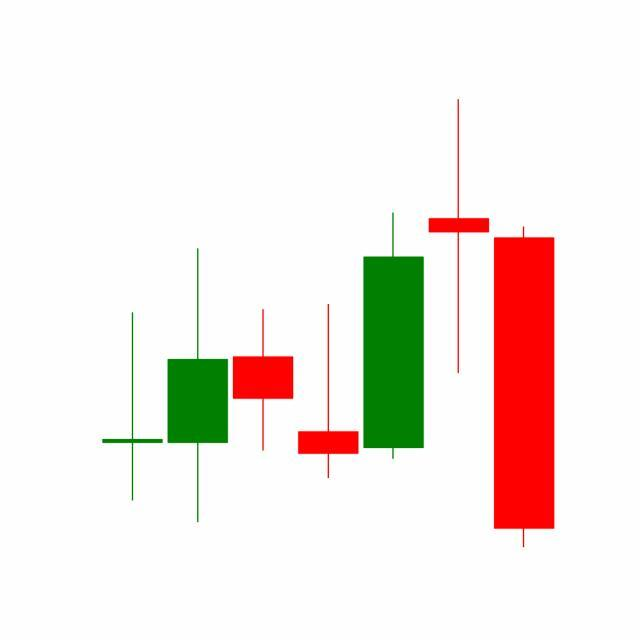Evening Star: (360, 99, 556, 549)
